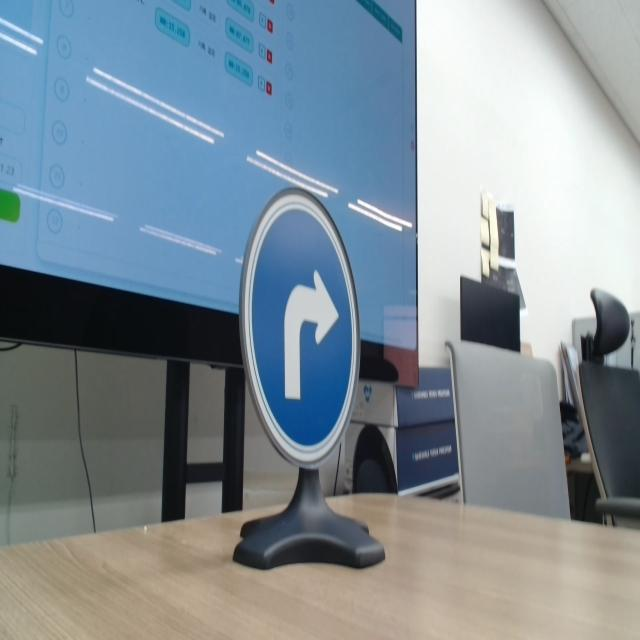right_dierection: (244, 146, 386, 492)
